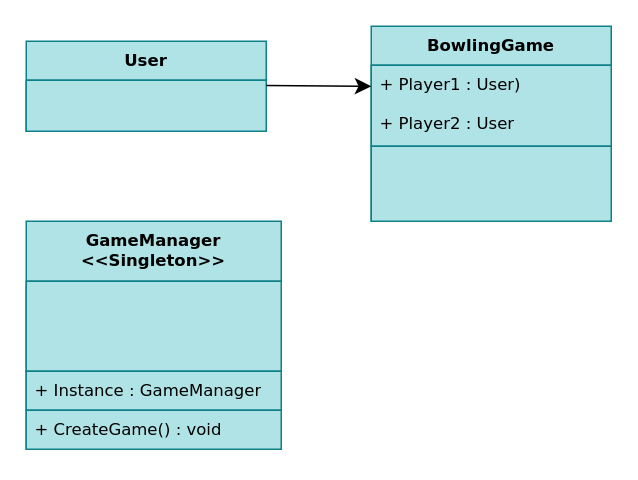
This 638x480 diagram has some shape labels left out. The shapes that lost their labels are listed below. From the top down, each one's centre as x and y in pixels, then its label:
(145,105): + Name : string
(490,183): + BowlingGame (p1, p2) + DecideWinner() : void
(153,325): - _instance : GameManager - _lock : object
